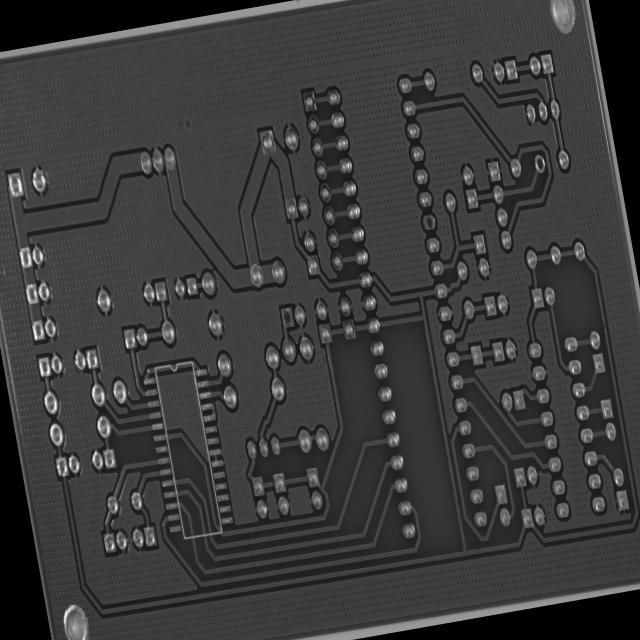missing_hole: (280, 306, 294, 328), (534, 154, 547, 174), (422, 213, 436, 230)
